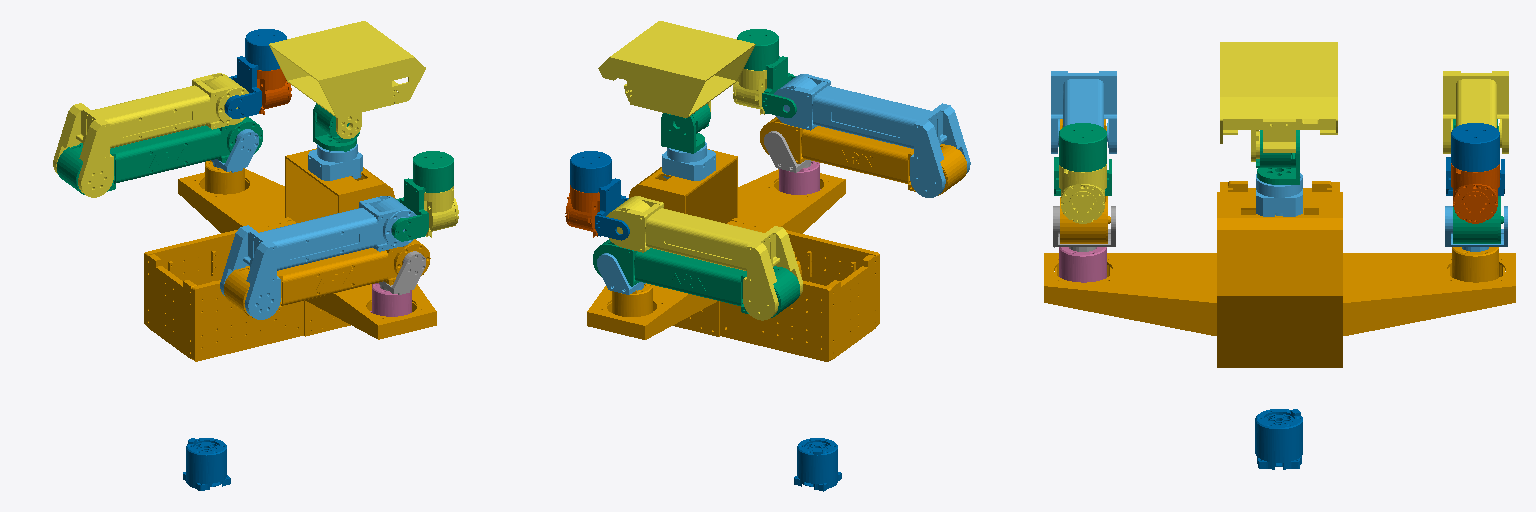
The robot description file, URDF, robot "arx_lift":
<?xml version="1.0" ?>
<!-- =================================================================================== -->
<!-- |    This document was autogenerated by xacro from robot.xacro                    | -->
<!-- |    EDITING THIS FILE BY HAND IS NOT RECOMMENDED                                 | -->
<!-- =================================================================================== -->
<robot name="arx_lift">
  <link name="left_base_link">
    <inertial>
      <origin xyz="-0.00013359 6.672E-05 0.031672"/>
      <mass value="0.42272"/>
      <inertia ixx="0.00019" ixy="0.00000" ixz="0.00000" iyy="0.00019" iyz="0.00000" izz="0.00020"/>
    </inertial>
    <visual>
      <geometry>
        <mesh filename="package://arx5_description/meshes/r5/base_link.obj"/>
      </geometry>
    </visual>
    <collision>
      <geometry>
        <mesh filename="package://arx5_description/meshes/r5/base_link.obj"/>
      </geometry>
    </collision>
  </link>
  <link name="left_link1">
    <inertial>
      <origin xyz="0.0050395 -0.0077407 0.020897"/>
      <mass value="0.096804"/>
      <inertia ixx="0.00011" ixy="-0.00001" ixz="0.00001" iyy="0.00005" iyz="-0.00001" izz="0.00010"/>
    </inertial>
    <visual>
      <geometry>
        <mesh filename="package://arx5_description/meshes/r5/link1.obj"/>
      </geometry>
    </visual>
    <collision>
      <geometry>
        <mesh filename="package://arx5_description/meshes/r5/link1.obj"/>
      </geometry>
    </collision>
  </link>
  <joint name="left_joint1" type="revolute">
    <origin xyz="0 0 0.0565"/>
    <parent link="left_base_link"/>
    <child link="left_link1"/>
    <axis xyz="0 0 1"/>
    <limit effort="100" lower="-2.618" upper="2.168" velocity="5"/>
  </joint>
  <link name="left_link2">
    <inertial>
      <origin xyz="-0.12992 -0.0011822 -2.6366E-05"/>
      <mass value="1.1988"/>
      <inertia ixx="0.00065" ixy="0.00008" ixz="0.00000" iyy="0.01647" iyz="0.00000" izz="0.01646"/>
    </inertial>
    <visual>
      <geometry>
        <mesh filename="package://arx5_description/meshes/r5/link2.obj"/>
      </geometry>
    </visual>
    <collision>
      <geometry>
        <mesh filename="package://arx5_description/meshes/r5/link2.obj"/>
      </geometry>
    </collision>
  </link>
  <joint name="left_joint2" type="revolute">
    <origin xyz="0.02 0 0.047"/>
    <parent link="left_link1"/>
    <child link="left_link2"/>
    <axis xyz="0 1 0"/>
    <limit effort="100" lower="0" upper="3.66" velocity="5"/>
  </joint>
  <link name="left_link3">
    <inertial>
      <origin xyz="0.16181 0.0011723 -0.05455"/>
      <mass value="0.84082"/>
      <inertia ixx="0.00082" ixy="0.00008" ixz="-0.00074" iyy="0.00849" iyz="0.00001" izz="0.00834"/>
    </inertial>
    <visual>
      <geometry>
        <mesh filename="package://arx5_description/meshes/r5/link3.obj"/>
      </geometry>
    </visual>
    <collision>
      <geometry>
        <mesh filename="package://arx5_description/meshes/r5/link3.obj"/>
      </geometry>
    </collision>
  </link>
  <joint name="left_joint3" type="revolute">
    <origin rpy="-3.1416 0 0" xyz="-0.264 0 0"/>
    <parent link="left_link2"/>
    <child link="left_link3"/>
    <axis xyz="0 1 0"/>
    <limit effort="100" lower="0" upper="3.14" velocity="5"/>
  </joint>
  <link name="left_link4">
    <inertial>
      <origin xyz="0.041751 0.0054236 -0.03337"/>
      <mass value="0.12432"/>
      <inertia ixx="0.00022" ixy="-0.00002" ixz="-0.00009" iyy="0.00025" iyz="0.00002" izz="0.00017"/>
    </inertial>
    <visual>
      <geometry>
        <mesh filename="package://arx5_description/meshes/r5/link4.obj"/>
      </geometry>
    </visual>
    <collision>
      <geometry>
        <mesh filename="package://arx5_description/meshes/r5/link4.obj"/>
      </geometry>
    </collision>
  </link>
  <joint name="left_joint4" type="revolute">
    <origin xyz="0.245 -5E-05 -0.06"/>
    <parent link="left_link3"/>
    <child link="left_link4"/>
    <axis xyz="0 1 0"/>
    <limit effort="100" lower="-1.57" upper="1.57" velocity="5"/>
  </joint>
  <link name="left_link5">
    <inertial>
      <origin xyz="-8.3435E-05 -1.5428E-05 0.052216"/>
      <mass value="0.63601"/>
      <inertia ixx="0.00084" ixy="0.00000" ixz="0.00007" iyy="0.00082" iyz="0.00000" izz="0.00026"/>
    </inertial>
    <visual>
      <geometry>
        <mesh filename="package://arx5_description/meshes/r5/link5.obj"/>
      </geometry>
    </visual>
    <collision>
      <geometry>
        <mesh filename="package://arx5_description/meshes/r5/link5.obj"/>
      </geometry>
    </collision>
  </link>
  <joint name="left_joint5" type="revolute">
    <origin xyz="0.0702 5E-05 -0.083391"/>
    <parent link="left_link4"/>
    <child link="left_link5"/>
    <axis xyz="0 0 1"/>
    <limit effort="100" lower="-1.57" upper="1.57" velocity="5"/>
  </joint>
  <link name="left_link6">
    <inertial>
      <origin xyz="0.041697 2.4368E-05 0.00014464"/>
      <mass value="0.44089"/>
      <inertia ixx="0.00038" ixy="0.00000" ixz="0.00000" iyy="0.00028" iyz="0.00000" izz="0.00050"/>
    </inertial>
    <visual>
      <geometry>
        <mesh filename="package://arx5_description/meshes/r5/link6.obj"/>
      </geometry>
    </visual>
    <collision>
      <geometry>
        <mesh filename="package://arx5_description/meshes/r5/link6.obj"/>
      </geometry>
    </collision>
  </link>
  <joint name="left_joint6" type="revolute">
    <origin rpy="3.1416 0 0" xyz="0.025286 0 0.083391"/>
    <parent link="left_link5"/>
    <child link="left_link6"/>
    <axis xyz="1 0 0"/>
    <limit effort="100" lower="-1.57" upper="1.57" velocity="5"/>
  </joint>
  <link name="left_link7">
    <inertial>
      <origin xyz="-0.00035522 -0.007827 -0.0029883"/>
      <mass value="0.064798"/>
      <inertia ixx="0.00002" ixy="0.00000" ixz="0.00000" iyy="0.00003" iyz="0.00000" izz="0.00003"/>
    </inertial>
    <visual>
      <geometry>
        <mesh filename="package://arx5_description/meshes/r5/link7.obj"/>
      </geometry>
    </visual>
    <collision>
      <geometry>
        <mesh filename="package://arx5_description/meshes/r5/link7.obj"/>
      </geometry>
    </collision>
  </link>
  <joint name="left_gripper_joint" type="prismatic">
    <origin xyz="0.08657 0.024896 -0.0002436"/>
    <parent link="left_link6"/>
    <child link="left_link7"/>
    <axis xyz="0 1 0"/>
    <limit effort="100" lower="0" upper="0.044" velocity="5"/>
  </joint>
  <link name="left_link8">
    <inertial>
      <origin xyz="-0.000355223470270755 0.00782768751820277 0.00242005642879778"/>
      <mass value="0.0647981725781684"/>
      <inertia ixx="0.00002" ixy="0.00000" ixz="0.00000" iyy="0.00003" iyz="0.00000" izz="0.00003"/>
    </inertial>
    <visual>
      <geometry>
        <mesh filename="package://arx5_description/meshes/r5/link8.obj"/>
      </geometry>
    </visual>
    <collision>
      <geometry>
        <mesh filename="package://arx5_description/meshes/r5/link8.obj"/>
      </geometry>
    </collision>
  </link>
  <joint name="left_joint8" type="prismatic">
    <origin xyz="0.08657 -0.0249 -0.00024366"/>
    <parent link="left_link6"/>
    <child link="left_link8"/>
    <axis xyz="0 -1 0"/>
    <limit effort="100" lower="0" upper="0.044" velocity="5"/>
    <mimic joint="left_gripper_joint" multiplier="1" offset="0"/>
  </joint>
  <link name="left_gripper_center"/>
  <joint name="left_gripper_center_fixed" type="fixed">
    <parent link="left_link6"/>
    <child link="left_gripper_center"/>
    <origin xyz="0.08657 0 0"/>
  </joint>
  <link name="left_left_pad"/>
  <joint name="left_left_pad_joint" type="fixed">
    <parent link="left_link7"/>
    <child link="left_left_pad"/>
    <origin xyz="0.05843 -0.0249 0"/>
  </joint>
  <link name="left_right_pad"/>
  <joint name="left_right_pad_joint" type="fixed">
    <parent link="left_link8"/>
    <child link="left_right_pad"/>
    <origin xyz="0.05843 0.0249 0"/>
  </joint>
  <link name="left_camera_support">
    <visual>
      <geometry>
        <mesh filename="package://arx5_description/meshes/camera_stand/stand_d405.obj"/>
      </geometry>
    </visual>
  </link>
  <joint name="left_camera_support_fixed" type="fixed">
    <parent link="left_link6"/>
    <child link="left_camera_support"/>
    <origin xyz="0.045 0 0.021"/>
  </joint>
  <link name="left_camera">
    <visual>
      <geometry>
        <mesh filename="package://sensor_models/meshes/realsense/d405.glb"/>
      </geometry>
    </visual>
  </link>
  <joint name="left_camera_fixed" type="fixed">
    <origin rpy="0 0.523 0" xyz="0.0385 0 0.0475"/>
    <parent link="left_camera_support"/>
    <child link="left_camera"/>
  </joint>
  <link name="right_base_link">
    <inertial>
      <origin xyz="-0.00013359 6.672E-05 0.031672"/>
      <mass value="0.42272"/>
      <inertia ixx="0.00019" ixy="0.00000" ixz="0.00000" iyy="0.00019" iyz="0.00000" izz="0.00020"/>
    </inertial>
    <visual>
      <geometry>
        <mesh filename="package://arx5_description/meshes/r5/base_link.obj"/>
      </geometry>
    </visual>
    <collision>
      <geometry>
        <mesh filename="package://arx5_description/meshes/r5/base_link.obj"/>
      </geometry>
    </collision>
  </link>
  <link name="right_link1">
    <inertial>
      <origin xyz="0.0050395 -0.0077407 0.020897"/>
      <mass value="0.096804"/>
      <inertia ixx="0.00011" ixy="-0.00001" ixz="0.00001" iyy="0.00005" iyz="-0.00001" izz="0.00010"/>
    </inertial>
    <visual>
      <geometry>
        <mesh filename="package://arx5_description/meshes/r5/link1.obj"/>
      </geometry>
    </visual>
    <collision>
      <geometry>
        <mesh filename="package://arx5_description/meshes/r5/link1.obj"/>
      </geometry>
    </collision>
  </link>
  <joint name="right_joint1" type="revolute">
    <origin xyz="0 0 0.0565"/>
    <parent link="right_base_link"/>
    <child link="right_link1"/>
    <axis xyz="0 0 1"/>
    <limit effort="100" lower="-2.618" upper="2.168" velocity="5"/>
  </joint>
  <link name="right_link2">
    <inertial>
      <origin xyz="-0.12992 -0.0011822 -2.6366E-05"/>
      <mass value="1.1988"/>
      <inertia ixx="0.00065" ixy="0.00008" ixz="0.00000" iyy="0.01647" iyz="0.00000" izz="0.01646"/>
    </inertial>
    <visual>
      <geometry>
        <mesh filename="package://arx5_description/meshes/r5/link2.obj"/>
      </geometry>
    </visual>
    <collision>
      <geometry>
        <mesh filename="package://arx5_description/meshes/r5/link2.obj"/>
      </geometry>
    </collision>
  </link>
  <joint name="right_joint2" type="revolute">
    <origin xyz="0.02 0 0.047"/>
    <parent link="right_link1"/>
    <child link="right_link2"/>
    <axis xyz="0 1 0"/>
    <limit effort="100" lower="0" upper="3.66" velocity="5"/>
  </joint>
  <link name="right_link3">
    <inertial>
      <origin xyz="0.16181 0.0011723 -0.05455"/>
      <mass value="0.84082"/>
      <inertia ixx="0.00082" ixy="0.00008" ixz="-0.00074" iyy="0.00849" iyz="0.00001" izz="0.00834"/>
    </inertial>
    <visual>
      <geometry>
        <mesh filename="package://arx5_description/meshes/r5/link3.obj"/>
      </geometry>
    </visual>
    <collision>
      <geometry>
        <mesh filename="package://arx5_description/meshes/r5/link3.obj"/>
      </geometry>
    </collision>
  </link>
  <joint name="right_joint3" type="revolute">
    <origin rpy="-3.1416 0 0" xyz="-0.264 0 0"/>
    <parent link="right_link2"/>
    <child link="right_link3"/>
    <axis xyz="0 1 0"/>
    <limit effort="100" lower="0" upper="3.14" velocity="5"/>
  </joint>
  <link name="right_link4">
    <inertial>
      <origin xyz="0.041751 0.0054236 -0.03337"/>
      <mass value="0.12432"/>
      <inertia ixx="0.00022" ixy="-0.00002" ixz="-0.00009" iyy="0.00025" iyz="0.00002" izz="0.00017"/>
    </inertial>
    <visual>
      <geometry>
        <mesh filename="package://arx5_description/meshes/r5/link4.obj"/>
      </geometry>
    </visual>
    <collision>
      <geometry>
        <mesh filename="package://arx5_description/meshes/r5/link4.obj"/>
      </geometry>
    </collision>
  </link>
  <joint name="right_joint4" type="revolute">
    <origin xyz="0.245 -5E-05 -0.06"/>
    <parent link="right_link3"/>
    <child link="right_link4"/>
    <axis xyz="0 1 0"/>
    <limit effort="100" lower="-1.57" upper="1.57" velocity="5"/>
  </joint>
  <link name="right_link5">
    <inertial>
      <origin xyz="-8.3435E-05 -1.5428E-05 0.052216"/>
      <mass value="0.63601"/>
      <inertia ixx="0.00084" ixy="0.00000" ixz="0.00007" iyy="0.00082" iyz="0.00000" izz="0.00026"/>
    </inertial>
    <visual>
      <geometry>
        <mesh filename="package://arx5_description/meshes/r5/link5.obj"/>
      </geometry>
    </visual>
    <collision>
      <geometry>
        <mesh filename="package://arx5_description/meshes/r5/link5.obj"/>
      </geometry>
    </collision>
  </link>
  <joint name="right_joint5" type="revolute">
    <origin xyz="0.0702 5E-05 -0.083391"/>
    <parent link="right_link4"/>
    <child link="right_link5"/>
    <axis xyz="0 0 1"/>
    <limit effort="100" lower="-1.57" upper="1.57" velocity="5"/>
  </joint>
  <link name="right_link6">
    <inertial>
      <origin xyz="0.041697 2.4368E-05 0.00014464"/>
      <mass value="0.44089"/>
      <inertia ixx="0.00038" ixy="0.00000" ixz="0.00000" iyy="0.00028" iyz="0.00000" izz="0.00050"/>
    </inertial>
    <visual>
      <geometry>
        <mesh filename="package://arx5_description/meshes/r5/link6.obj"/>
      </geometry>
    </visual>
    <collision>
      <geometry>
        <mesh filename="package://arx5_description/meshes/r5/link6.obj"/>
      </geometry>
    </collision>
  </link>
  <joint name="right_joint6" type="revolute">
    <origin rpy="3.1416 0 0" xyz="0.025286 0 0.083391"/>
    <parent link="right_link5"/>
    <child link="right_link6"/>
    <axis xyz="1 0 0"/>
    <limit effort="100" lower="-1.57" upper="1.57" velocity="5"/>
  </joint>
  <link name="right_link7">
    <inertial>
      <origin xyz="-0.00035522 -0.007827 -0.0029883"/>
      <mass value="0.064798"/>
      <inertia ixx="0.00002" ixy="0.00000" ixz="0.00000" iyy="0.00003" iyz="0.00000" izz="0.00003"/>
    </inertial>
    <visual>
      <geometry>
        <mesh filename="package://arx5_description/meshes/r5/link7.obj"/>
      </geometry>
    </visual>
    <collision>
      <geometry>
        <mesh filename="package://arx5_description/meshes/r5/link7.obj"/>
      </geometry>
    </collision>
  </link>
  <joint name="right_gripper_joint" type="prismatic">
    <origin xyz="0.08657 0.024896 -0.0002436"/>
    <parent link="right_link6"/>
    <child link="right_link7"/>
    <axis xyz="0 1 0"/>
    <limit effort="100" lower="0" upper="0.044" velocity="5"/>
  </joint>
  <link name="right_link8">
    <inertial>
      <origin xyz="-0.000355223470270755 0.00782768751820277 0.00242005642879778"/>
      <mass value="0.0647981725781684"/>
      <inertia ixx="0.00002" ixy="0.00000" ixz="0.00000" iyy="0.00003" iyz="0.00000" izz="0.00003"/>
    </inertial>
    <visual>
      <geometry>
        <mesh filename="package://arx5_description/meshes/r5/link8.obj"/>
      </geometry>
    </visual>
    <collision>
      <geometry>
        <mesh filename="package://arx5_description/meshes/r5/link8.obj"/>
      </geometry>
    </collision>
  </link>
  <joint name="right_joint8" type="prismatic">
    <origin xyz="0.08657 -0.0249 -0.00024366"/>
    <parent link="right_link6"/>
    <child link="right_link8"/>
    <axis xyz="0 -1 0"/>
    <limit effort="100" lower="0" upper="0.044" velocity="5"/>
    <mimic joint="right_gripper_joint" multiplier="1" offset="0"/>
  </joint>
  <link name="right_gripper_center"/>
  <joint name="right_gripper_center_fixed" type="fixed">
    <parent link="right_link6"/>
    <child link="right_gripper_center"/>
    <origin xyz="0.08657 0 0"/>
  </joint>
  <link name="right_left_pad"/>
  <joint name="right_left_pad_joint" type="fixed">
    <parent link="right_link7"/>
    <child link="right_left_pad"/>
    <origin xyz="0.05843 -0.0249 0"/>
  </joint>
  <link name="right_right_pad"/>
  <joint name="right_right_pad_joint" type="fixed">
    <parent link="right_link8"/>
    <child link="right_right_pad"/>
    <origin xyz="0.05843 0.0249 0"/>
  </joint>
  <link name="right_camera_support">
    <visual>
      <geometry>
        <mesh filename="package://arx5_description/meshes/camera_stand/stand_d405.obj"/>
      </geometry>
    </visual>
  </link>
  <joint name="right_camera_support_fixed" type="fixed">
    <parent link="right_link6"/>
    <child link="right_camera_support"/>
    <origin xyz="0.045 0 0.021"/>
  </joint>
  <link name="right_camera">
    <visual>
      <geometry>
        <mesh filename="package://sensor_models/meshes/realsense/d405.glb"/>
      </geometry>
    </visual>
  </link>
  <joint name="right_camera_fixed" type="fixed">
    <origin rpy="0 0.523 0" xyz="0.0385 0 0.0475"/>
    <parent link="right_camera_support"/>
    <child link="right_camera"/>
  </joint>
  <link name="base_link">
    <inertial>
      <origin xyz="0.015300075250394498 -0.0039712791148939055 0.21685783167580347"/>
      <mass value="67.7696558151508"/>
      <inertia ixx="7.900786" ixy="-0.021075" ixz="0.25289" iyy="8.068966" iyz="0.12408" izz="2.254894"/>
    </inertial>
    <visual>
      <geometry>
        <mesh filename="package://arx_lift_description/meshes/base/base_link.obj"/>
      </geometry>
    </visual>
    <collision>
      <geometry>
        <mesh filename="package://arx_lift_description/meshes/base/base_link.obj"/>
      </geometry>
    </collision>
  </link>
  <!-- 轮子链接 -->
  <link name="wheel_1">
    <inertial>
      <origin xyz="0.0026089441594678298 -1.3189703553351252e-07 2.8695680726054107e-07"/>
      <mass value="4.24803000494366"/>
      <inertia ixx="0.012235" ixy="-0.0" ixz="0.0" iyy="0.006629" iyz="0.0" izz="0.006629"/>
    </inertial>
    <visual>
      <geometry>
        <mesh filename="package://arx_lift_description/meshes/base/wheel.obj"/>
      </geometry>
    </visual>
    <collision>
      <geometry>
        <mesh filename="package://arx_lift_description/meshes/base/wheel.obj"/>
      </geometry>
    </collision>
  </link>
  <!-- 轮子链接 -->
  <link name="wheel_2">
    <inertial>
      <origin xyz="0.0026089441594678298 -1.3189703553351252e-07 2.8695680726054107e-07"/>
      <mass value="4.24803000494366"/>
      <inertia ixx="0.012235" ixy="-0.0" ixz="0.0" iyy="0.006629" iyz="0.0" izz="0.006629"/>
    </inertial>
    <visual>
      <geometry>
        <mesh filename="package://arx_lift_description/meshes/base/wheel.obj"/>
      </geometry>
    </visual>
    <collision>
      <geometry>
        <mesh filename="package://arx_lift_description/meshes/base/wheel.obj"/>
      </geometry>
    </collision>
  </link>
  <!-- 轮子链接 -->
  <link name="wheel_3">
    <inertial>
      <origin xyz="0.0026089441594678298 -1.3189703553351252e-07 2.8695680726054107e-07"/>
      <mass value="4.24803000494366"/>
      <inertia ixx="0.012235" ixy="-0.0" ixz="0.0" iyy="0.006629" iyz="0.0" izz="0.006629"/>
    </inertial>
    <visual>
      <geometry>
        <mesh filename="package://arx_lift_description/meshes/base/wheel.obj"/>
      </geometry>
    </visual>
    <collision>
      <geometry>
        <mesh filename="package://arx_lift_description/meshes/base/wheel.obj"/>
      </geometry>
    </collision>
  </link>
  <!-- 轮子关节定义 -->
  <joint name="wheel1_joint" type="fixed">
    <origin rpy="0.0 0.0 -2.0943951023931953" xyz="0.182349 0.315838 0.03"/>
    <parent link="base_link"/>
    <child link="wheel_1"/>
  </joint>
  <joint name="wheel2_joint" type="fixed">
    <origin rpy="0.0 0.0 2.0943951023931953" xyz="0.182349 -0.315838 0.03"/>
    <parent link="base_link"/>
    <child link="wheel_2"/>
  </joint>
  <joint name="wheel3_joint" type="fixed">
    <origin xyz="-0.364699 0.0 0.03"/>
    <parent link="base_link"/>
    <child link="wheel_3"/>
  </joint>
  <link name="lift_link">
    <inertial>
      <origin xyz="0.13956899916103924 0 0.07323798891482189"/>
      <mass value="17.38744536890084"/>
      <inertia ixx="0.187458" ixy="-0.000206" ixz="0.023942" iyy="0.178157" iyz="-0.000153" izz="0.29708"/>
    </inertial>
    <visual>
      <geometry>
        <mesh filename="package://arx_lift_description/meshes/body/lift.obj"/>
      </geometry>
    </visual>
    <collision>
      <geometry>
        <mesh filename="package://arx_lift_description/meshes/body/lift.obj"/>
      </geometry>
    </collision>
  </link>
  <joint name="lift_joint" type="prismatic">
    <origin xyz="-0.032 0 0.233"/>
    <parent link="base_link"/>
    <child link="lift_link"/>
    <axis xyz="0.0 0.0 1.0"/>
    <limit effort="1000" lower="0.0" upper="0.86" velocity="100"/>
  </joint>
  <link name="h_base_link">
    <inertial>
      <origin xyz="-0.0020743076738515215 0 0.024619861716967787"/>
      <mass value="0.9930933606993821"/>
      <inertia ixx="0.000391" ixy="-0.0" ixz="1.7e-05" iyy="0.000452" iyz="0.0" izz="0.000532"/>
    </inertial>
    <visual>
      <geometry>
        <mesh filename="package://arx_lift_description/meshes/body/h_base.obj"/>
      </geometry>
    </visual>
    <collision>
      <geometry>
        <mesh filename="package://arx_lift_description/meshes/body/h_base.obj"/>
      </geometry>
    </collision>
  </link>
  <link name="head_link1">
    <inertial>
      <origin xyz="-1.2166451790474E-08 0.000155101086835956 0.0414775143344981"/>
      <mass value="0.429406588376073"/>
      <inertia ixx="0.00027" ixy="0.00000" ixz="0.00000" iyy="0.00026" iyz="-0.00001" izz="0.00018"/>
    </inertial>
    <visual>
      <geometry>
        <mesh filename="package://arx_lift_description/meshes/body/neck.obj"/>
      </geometry>
    </visual>
    <collision>
      <geometry>
        <mesh filename="package://arx_lift_description/meshes/body/neck.obj"/>
      </geometry>
    </collision>
  </link>
  <link name="head_link2">
    <inertial>
      <origin xyz="0.0145474612596931 0.0229595215513494 0.0787914285814235"/>
      <mass value="1.54420437039843"/>
      <inertia ixx="0.00576" ixy="-0.00007" ixz="0.00018" iyy="0.00477" iyz="0.00015" izz="0.00768"/>
    </inertial>
    <visual>
      <geometry>
        <mesh filename="package://arx_lift_description/meshes/body/head.obj"/>
      </geometry>
    </visual>
    <collision>
      <geometry>
        <mesh filename="package://arx_lift_description/meshes/body/head.obj"/>
      </geometry>
    </collision>
  </link>
  <joint name="head_joint1" type="continuous">
    <origin xyz="0.0 0.0 0.046"/>
    <parent link="h_base_link"/>
    <child link="head_link1"/>
    <axis xyz="0.0 0.0 1.0"/>
    <limit effort="100" lower="-1.5707963267948966" upper="1.5707963267948966" velocity="100"/>
  </joint>
  <joint name="head_joint2" type="continuous">
    <origin xyz="0.0 -0.025 0.049"/>
    <parent link="head_link1"/>
    <child link="head_link2"/>
    <axis xyz="0.0 -1.0 0.0"/>
    <limit effort="100" lower="-0.7853981633974483" upper="0.7853981633974483" velocity="100"/>
  </joint>
  <joint name="h_fixed" type="fixed">
    <parent link="lift_link"/>
    <child link="h_base_link"/>
    <origin xyz="0.258786 0 0.220008"/>
  </joint>
  <link name="head_camera">
    <visual>
      <geometry>
        <mesh filename="package://sensor_models/meshes/realsense/d405.glb"/>
      </geometry>
    </visual>
  </link>
  <joint name="head_camera_joint" type="fixed">
    <origin xyz="0.095 0.025 0.06"/>
    <parent link="head_link2"/>
    <child link="head_camera"/>
  </joint>
  <joint name="arm_left_fixed" type="fixed">
    <parent link="lift_link"/>
    <child link="left_base_link"/>
    <origin xyz="0.208 0.25000 0.092"/>
  </joint>
  <joint name="arm_right_fixed" type="fixed">
    <parent link="lift_link"/>
    <child link="right_base_link"/>
    <origin xyz="0.208 -0.25000 0.092"/>
  </joint>
</robot>

--- Render facts (derived) ---
Views: 3 orthographic renders of the robot side by side, from view 1: azimuth 30°, elevation 25°; view 2: azimuth 150°, elevation 25°; view 3: azimuth 270°, elevation 25°.
Robot: arx_lift — 37 links, 36 joints (12 revolute, 2 continuous, 5 prismatic, 17 fixed); root link base_link; default pose: all joints at 0.
Visible links, largest first — view 1: lift_link, head_link2, right_link3, left_link3, left_link2, right_link2, right_link4, left_link4, base_link, h_base_link, right_link5, head_link1 (+5 smaller); view 2: lift_link, head_link2, left_link3, right_link3, right_link2, left_link2, left_link4, right_link4, base_link, head_link1, h_base_link, left_link5 (+5 smaller); view 3: lift_link, head_link2, left_link3, right_link3, base_link, left_link4, right_link4, left_link5, right_link5, h_base_link, right_base_link, left_base_link (+5 smaller).
Boxes of the visible links, x1,y1,x2,y2 form: lift_link: [144, 148, 436, 361]; head_link2: [269, 21, 425, 138]; right_link3: [220, 196, 416, 319]; left_link3: [53, 73, 248, 197]; left_link2: [57, 117, 262, 194]; right_link2: [224, 239, 430, 317]; right_link4: [392, 151, 453, 241]; left_link4: [225, 29, 286, 118]; base_link: [183, 438, 230, 490]; h_base_link: [308, 144, 362, 180]; right_link5: [424, 186, 458, 237]; head_link1: [313, 103, 359, 151]; lift_link: [587, 149, 879, 361]; head_link2: [598, 21, 755, 117]; left_link3: [606, 196, 802, 320]; right_link3: [774, 74, 970, 197]; right_link2: [760, 117, 966, 195]; left_link2: [593, 239, 799, 317]; left_link4: [570, 151, 629, 240]; right_link4: [737, 29, 796, 117]; base_link: [794, 438, 841, 491]; head_link1: [661, 104, 710, 153]; h_base_link: [662, 142, 715, 180]; left_link5: [565, 185, 599, 237]; lift_link: [1044, 181, 1515, 367]; head_link2: [1220, 42, 1337, 161]; left_link3: [1443, 71, 1508, 153]; right_link3: [1051, 71, 1116, 153]; base_link: [1255, 409, 1302, 469]; left_link4: [1446, 123, 1504, 195]; right_link4: [1054, 123, 1111, 195]; left_link5: [1451, 163, 1499, 223]; right_link5: [1059, 164, 1106, 223]; h_base_link: [1256, 173, 1302, 216]; right_base_link: [1059, 247, 1106, 282]; left_base_link: [1452, 247, 1498, 282].
Bounding box of the posed robot: 0.4337 × 0.6 × 0.657 m (x, y, z).
Meshes: 17 distinct files referenced, 17 mesh visuals loaded (10 OBJ); not drawn: 14 (reference not matched to a file when rendering).
